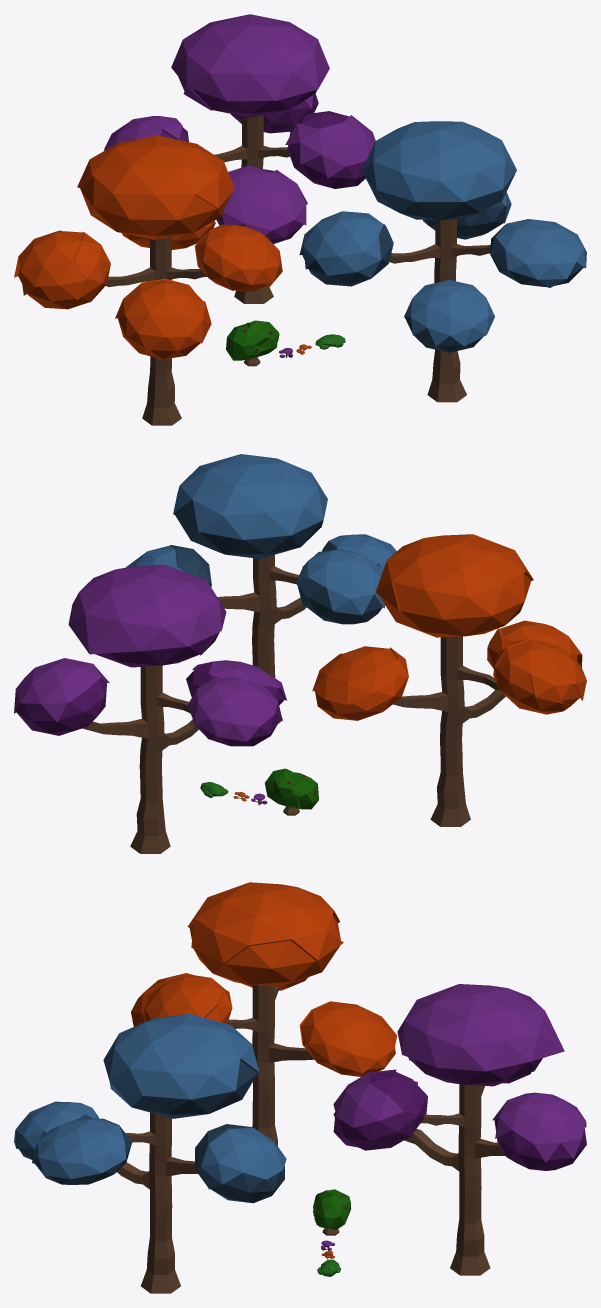
Rendered from Shrubs__Trees.fbx.
The picture shows the model from 3 angles, top to bottom: view 1: azimuth 30°, elevation 25°; view 2: azimuth 150°, elevation 25°; view 3: azimuth 270°, elevation 25°; orthographic projection.
Visible parts, largest first — view 1: Default Tree.007, Default Tree.009, Autmn Tree.007, Icosphere; view 2: Default Tree.007, Autmn Tree.007, Default Tree.009, Icosphere; view 3: Autmn Tree.007, Default Tree.009, Default Tree.007, Icosphere.
Boxes of the visible parts, box(x1,y1,x2,y2) form: Default Tree.007: box(14, 135, 282, 425); Default Tree.009: box(299, 121, 586, 402); Autmn Tree.007: box(104, 14, 375, 303); Icosphere: box(226, 320, 279, 366); Default Tree.007: box(312, 534, 586, 826); Autmn Tree.007: box(14, 564, 286, 853); Default Tree.009: box(126, 454, 396, 723); Icosphere: box(265, 768, 318, 815); Autmn Tree.007: box(333, 984, 586, 1275); Default Tree.009: box(14, 1013, 286, 1293); Default Tree.007: box(131, 882, 397, 1145); Icosphere: box(313, 1189, 351, 1235).
Bounding box in the file's own units: 1910 × 1074 × 2002.
